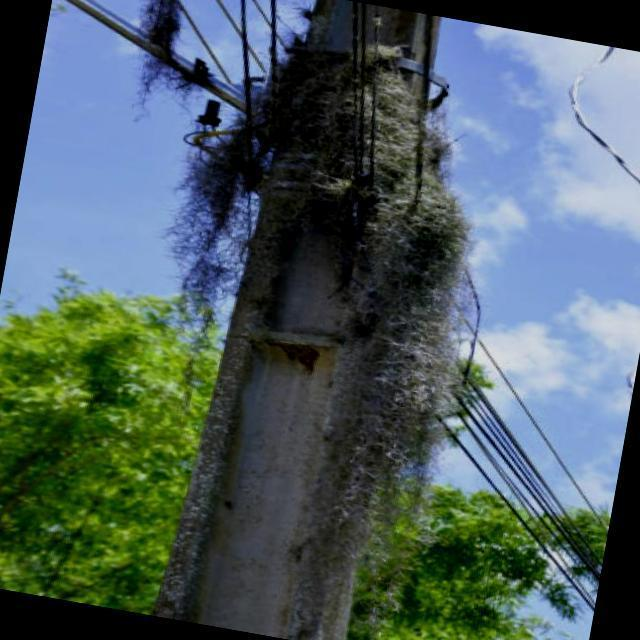critical vegetation: (158, 0, 524, 581)
